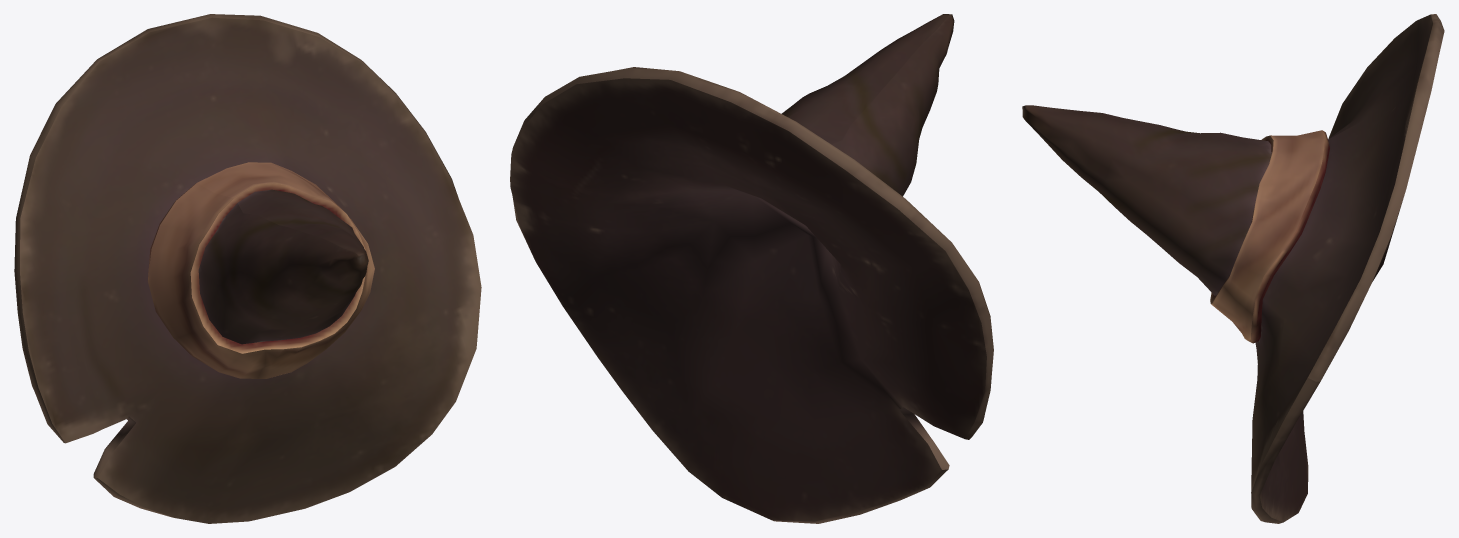
Rendered from wizard_hat.glb.
3 renders of one model, left to right at view 1: azimuth 30°, elevation 25°; view 2: azimuth 150°, elevation 25°; view 3: azimuth 270°, elevation 25°, orthographic. The views are drawn at different scales.
Parts seen in each view (by area): view 1: Object_2; view 2: Object_2; view 3: Object_2.
Part boxes in pixels (x1,y1,x2,y2): Object_2: (14,14,481,523); Object_2: (510,14,993,523); Object_2: (1022,14,1444,523).
Bounding box in the file's own units: 0.4103 × 0.4 × 0.3324.
1 material, 1 textured.
